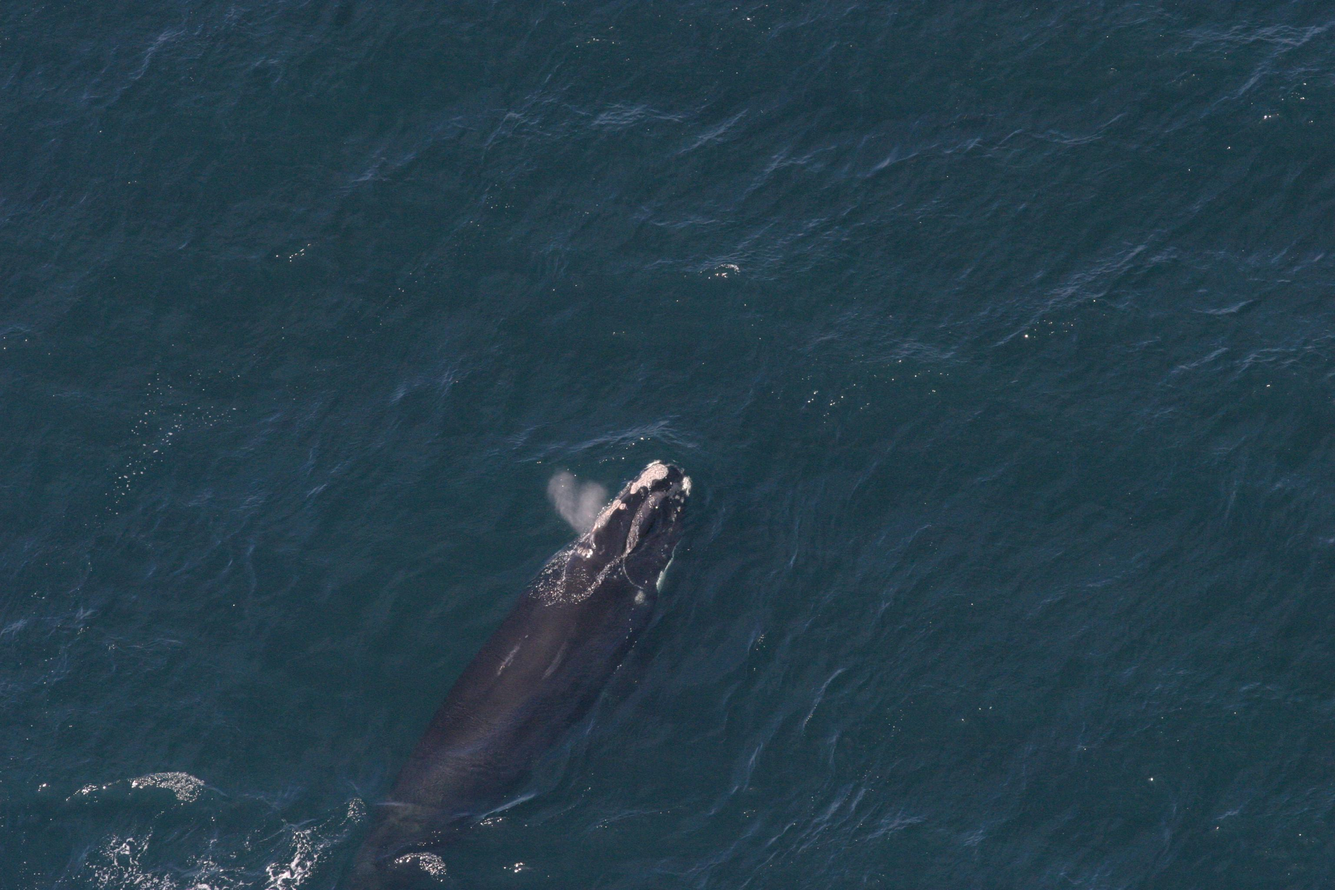whale: (316, 451, 703, 890)
